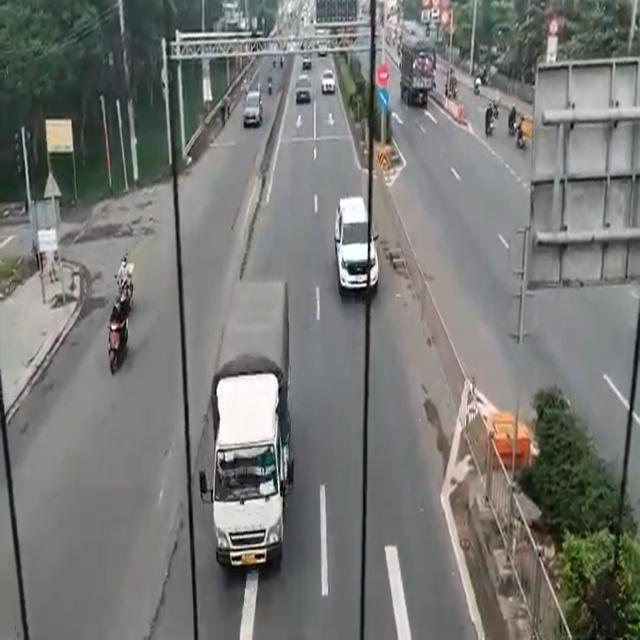car: (332, 196, 382, 298), (242, 86, 262, 129), (295, 70, 314, 108), (320, 66, 336, 98)
motor: (104, 293, 133, 377), (111, 254, 142, 308)
truck: (210, 279, 295, 583), (397, 34, 438, 118)
